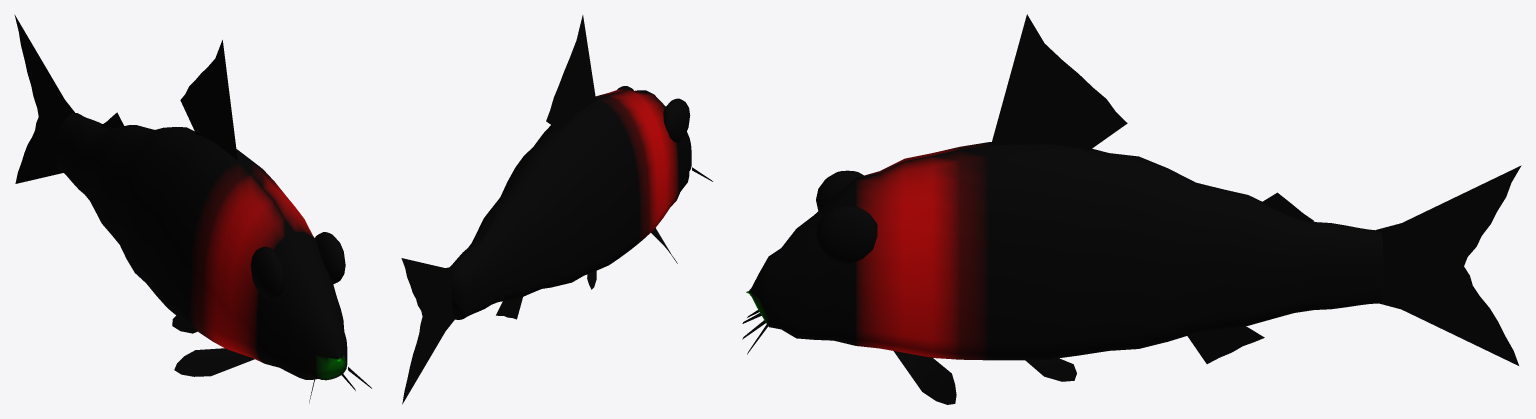
The model's file is corydoras-pygmaeus.glb.
3 views of the same model, side by side, from view 1: azimuth 30°, elevation 25°; view 2: azimuth 150°, elevation 25°; view 3: azimuth 270°, elevation 25° (orthographic). The views are drawn at different scales.
Parts seen in each view (by area): view 1: cpygmy_body, cpygmy_caudal, cpygmy_dorsal, cpygmy_pectoralL, cpygmy_eyeL, cpygmy_eyeR; view 2: cpygmy_body, cpygmy_caudal, cpygmy_dorsal, cpygmy_eyeL, cpygmy_anal; view 3: cpygmy_body, cpygmy_caudal, cpygmy_dorsal, cpygmy_eyeR, cpygmy_pectoralR, cpygmy_anal, cpygmy_eyeL, cpygmy_pelvicR.
Boxes of the visible parts, <box> form: cpygmy_body: <box>56,113,347,380</box>; cpygmy_caudal: <box>14,14,75,183</box>; cpygmy_dorsal: <box>180,40,237,160</box>; cpygmy_pectoralL: <box>174,348,254,376</box>; cpygmy_eyeL: <box>250,246,285,299</box>; cpygmy_eyeR: <box>315,232,345,284</box>; cpygmy_body: <box>450,89,691,319</box>; cpygmy_caudal: <box>401,258,454,404</box>; cpygmy_dorsal: <box>546,15,595,130</box>; cpygmy_eyeL: <box>663,98,690,142</box>; cpygmy_anal: <box>496,297,522,319</box>; cpygmy_body: <box>746,142,1384,360</box>; cpygmy_caudal: <box>1375,165,1521,365</box>; cpygmy_dorsal: <box>991,14,1127,150</box>; cpygmy_eyeR: <box>816,205,877,263</box>; cpygmy_pectoralR: <box>893,351,956,404</box>; cpygmy_anal: <box>1187,326,1264,363</box>; cpygmy_eyeL: <box>816,170,863,210</box>; cpygmy_pelvicR: <box>1025,358,1076,381</box>.
Bounding box in the file's own units: 0.3402 × 0.6112 × 1.23.
